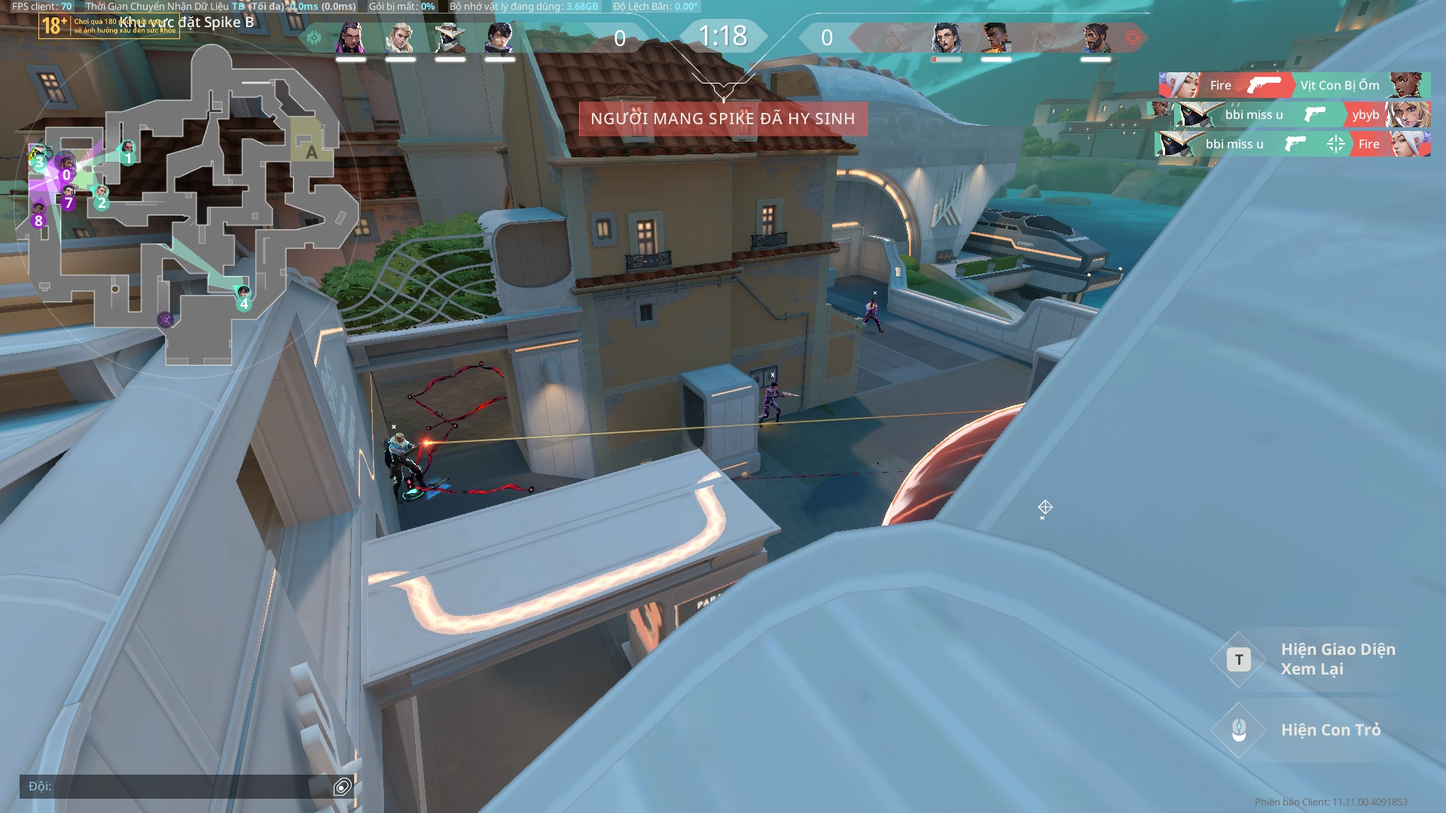body: (764, 388, 778, 404), (866, 303, 879, 314)
head: (770, 381, 779, 391), (870, 297, 876, 305)
